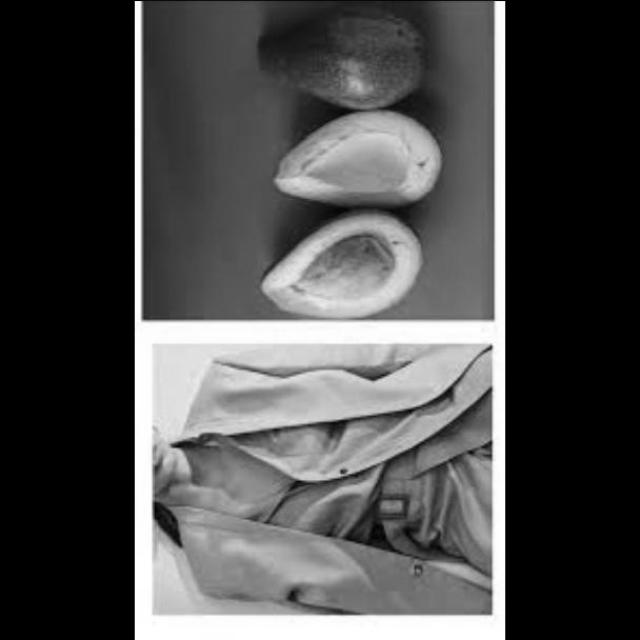bo: (250, 213, 447, 339), (250, 0, 435, 107), (254, 116, 460, 204)
